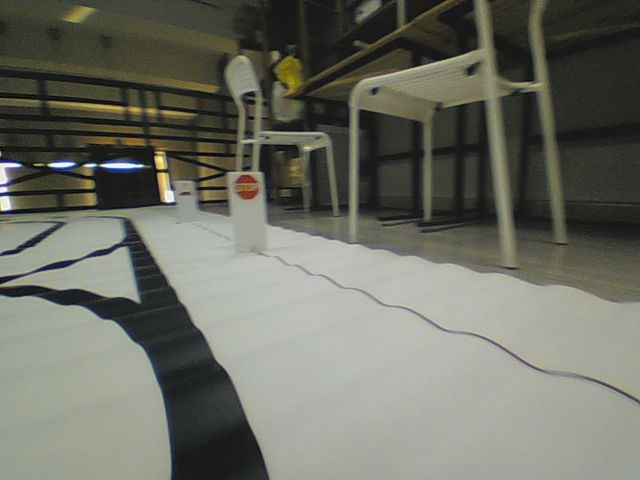Stop: (233, 174, 260, 200)
